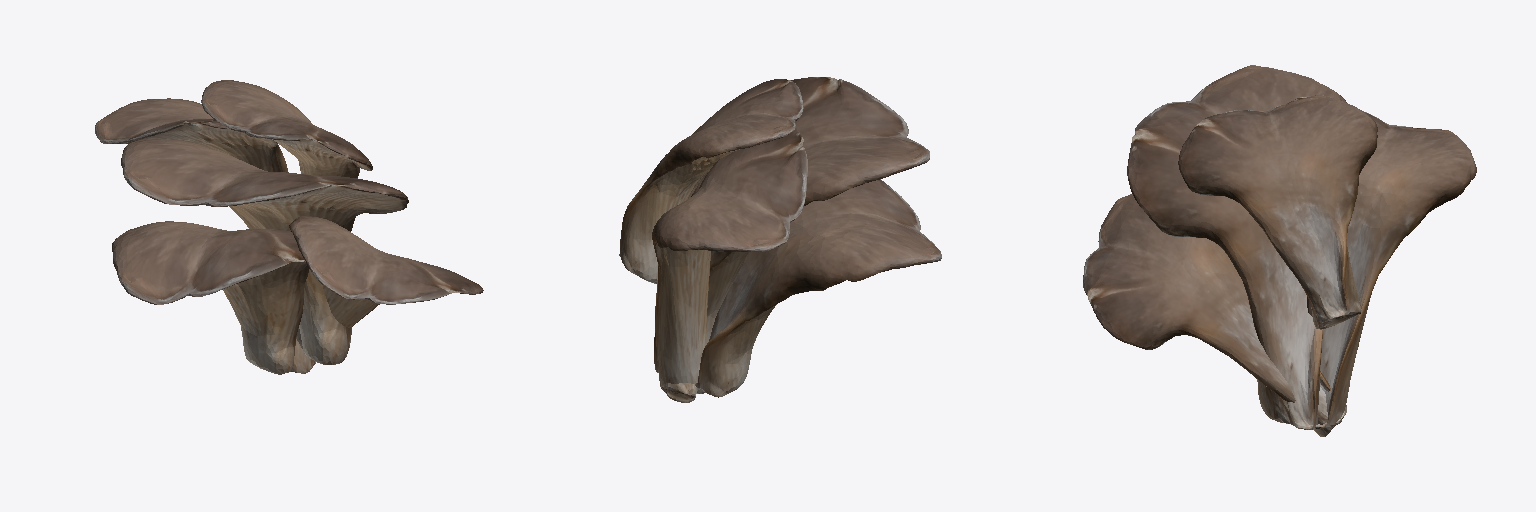
3 renders of one model, left to right at view 1: azimuth 30°, elevation 25°; view 2: azimuth 150°, elevation 25°; view 3: azimuth 270°, elevation 25°, orthographic.
Parts seen in each view (by area): view 1: mushroom.001, mushroom, mushroom.003, mushroom.004, mushroom.002; view 2: mushroom.002, mushroom.001, mushroom, mushroom.004, mushroom.003; view 3: mushroom.004, mushroom, mushroom.003, mushroom.002.
Boxes of the visible parts, box(x1,y1,x2,y2) form: mushroom.001: box(112, 221, 308, 374); mushroom: box(121, 139, 408, 364); mushroom.003: box(289, 216, 483, 348); mushroom.004: box(201, 80, 372, 177); mushroom.002: box(95, 98, 315, 373); mushroom.002: box(652, 128, 807, 393); mushroom.001: box(695, 179, 941, 397); mushroom: box(654, 77, 929, 372); mushroom.004: box(619, 79, 803, 283); mushroom.003: box(660, 172, 707, 402); mushroom.004: box(1178, 95, 1377, 329); mushroom: box(1127, 65, 1346, 429); mushroom.003: box(1083, 194, 1346, 436); mushroom.002: box(1289, 97, 1476, 428).
Size of the model in its own units: 6.27 by 5.82 by 7.07.
1 materials, 1 textured.